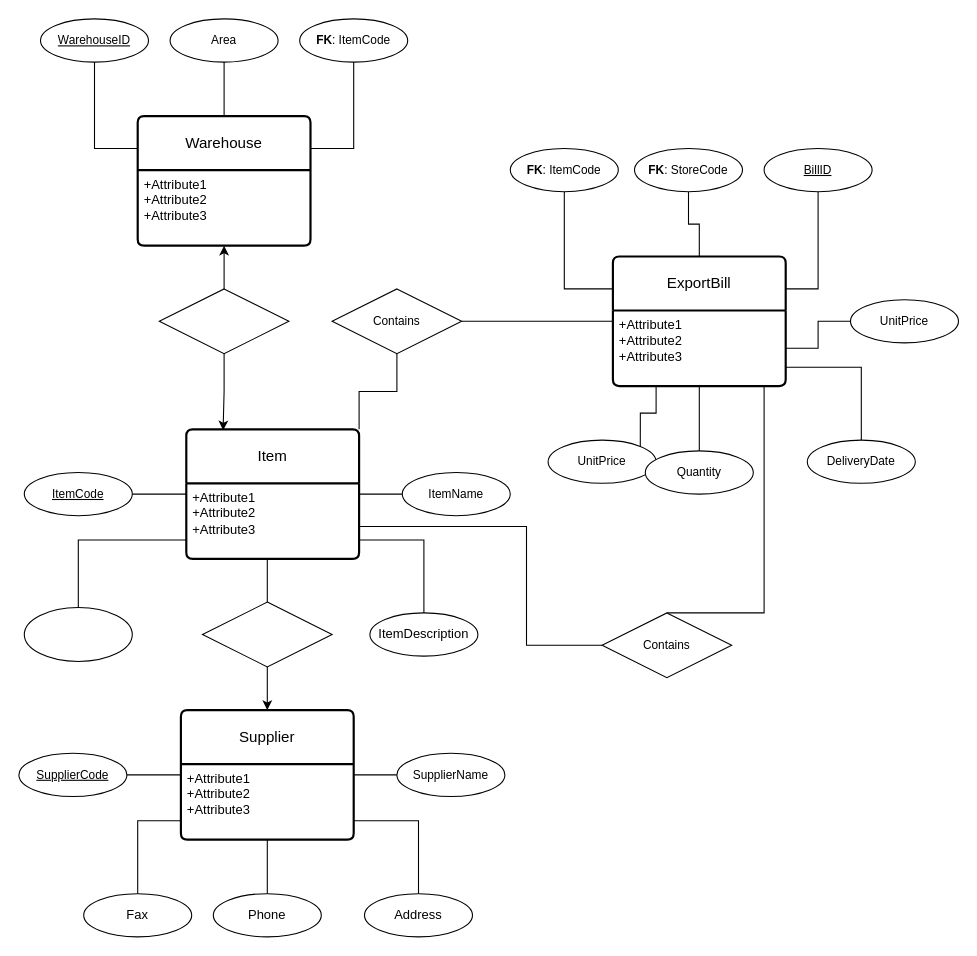
Image size: 977x956. Some labels were removed from this diagram. The centre of each missing label's shape, as x and y in pixels:
FK : SupplierCode: point 77,634
Stores: point 223,321
Supplies: point 266,634
